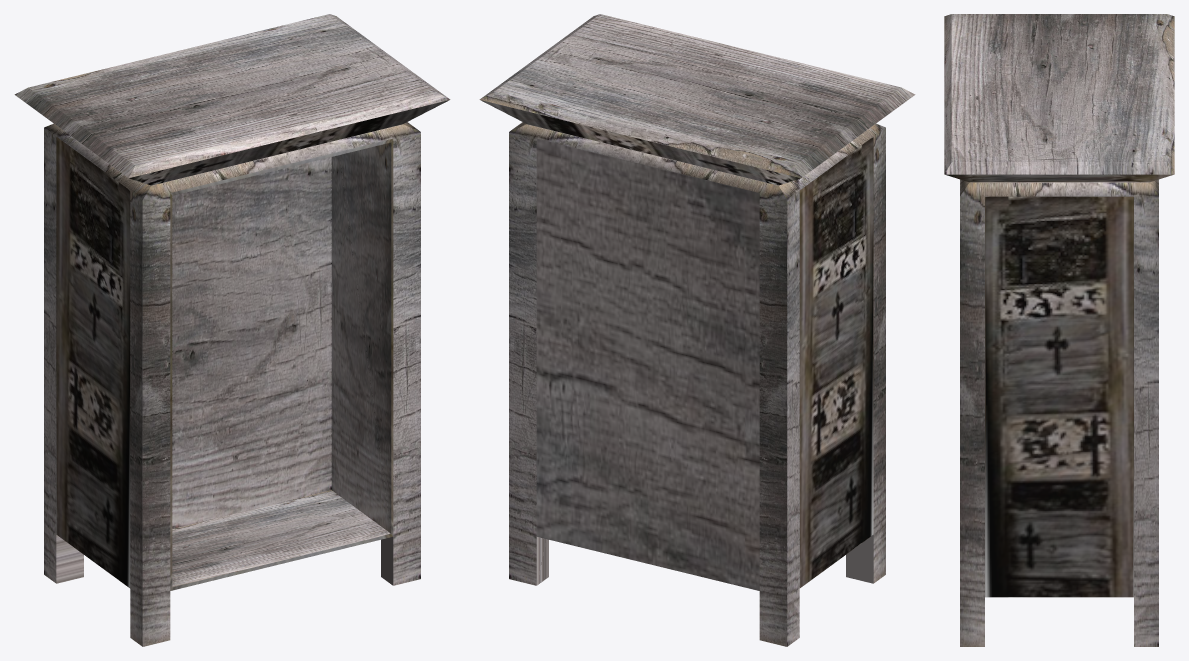
Rendered from endtable_no_door_model.fbx.
The picture shows the model from 3 angles, left to right: view 1: azimuth 30°, elevation 25°; view 2: azimuth 150°, elevation 25°; view 3: azimuth 270°, elevation 25°; orthographic projection.
Visible parts, largest first — view 1: pCube11; view 2: pCube11; view 3: pCube11.
Boxes of the visible parts, <box> form: pCube11: <box>14,14,450,646</box>; pCube11: <box>479,14,915,646</box>; pCube11: <box>944,14,1174,646</box>.
Bounding box in the file's own units: 0.1206 × 0.1743 × 0.0741.
